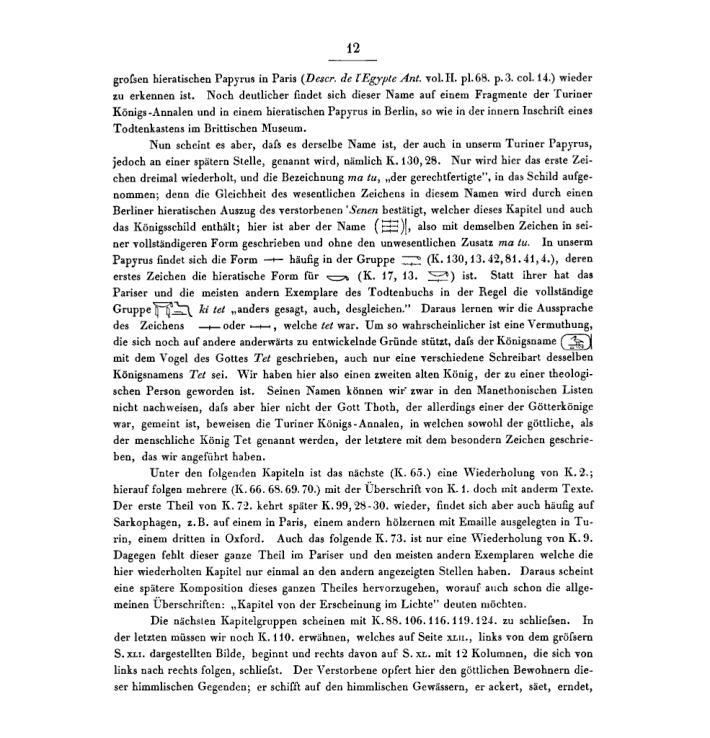circle: (560, 334, 595, 352)
